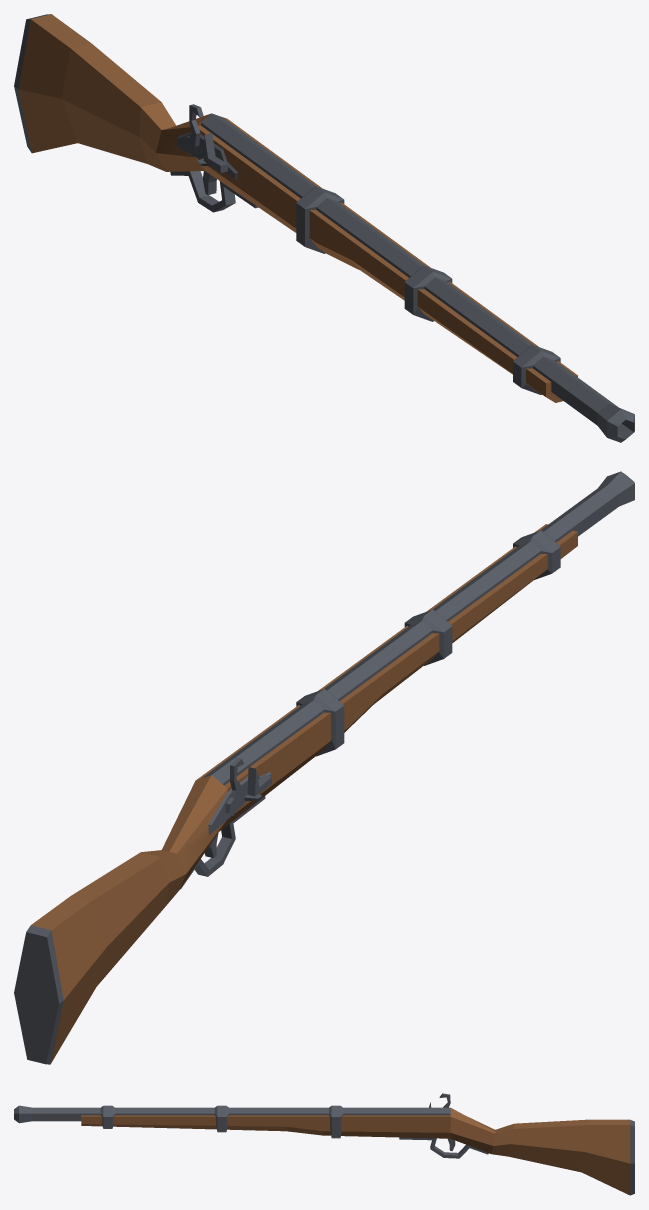
Rendered from Musket.fbx.
3 views of the same model, one above another, from view 1: azimuth 30°, elevation 25°; view 2: azimuth 150°, elevation 25°; view 3: azimuth 270°, elevation 25° (orthographic). The views are drawn at different scales.
Visible parts, largest first — view 1: Musket; view 2: Musket; view 3: Musket.
Boxes of the visible parts, left/top/right/bottom form: Musket: left=14, top=14, right=634, bottom=442; Musket: left=14, top=471, right=634, bottom=1064; Musket: left=14, top=1093, right=634, bottom=1195.
Bounding box in the file's own units: 8.37 × 26.81 × 160.
